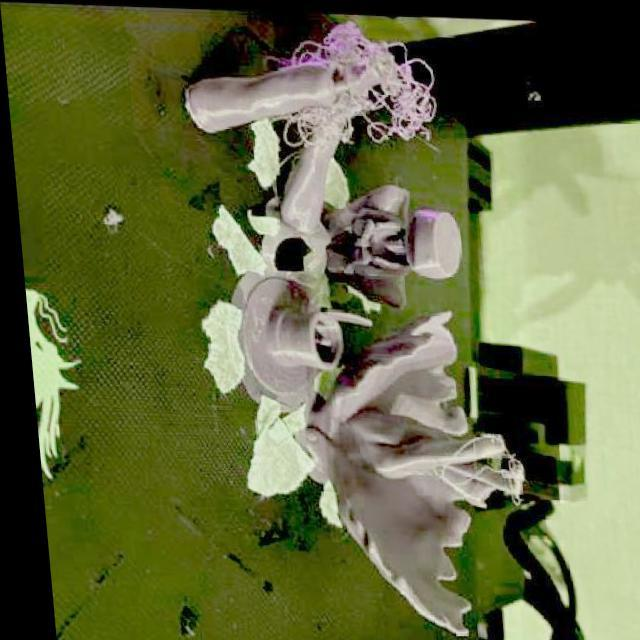spaghetti: (270, 15, 443, 156), (425, 423, 524, 508)
